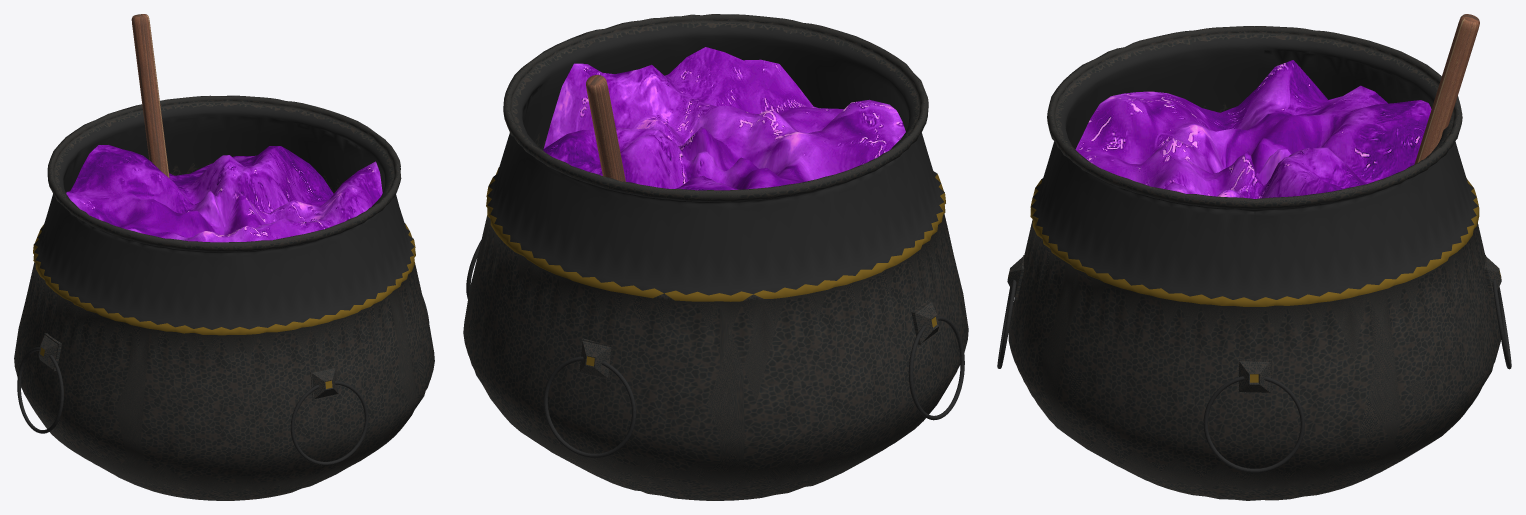
File: pot_end.fbx
The picture shows the model from 3 angles, left to right: view 1: azimuth 30°, elevation 25°; view 2: azimuth 150°, elevation 25°; view 3: azimuth 270°, elevation 25°; orthographic projection. The views are drawn at different scales.
Visible parts, largest first — view 1: Couldron, Circle, Handles, Cylinder; view 2: Couldron, Circle, Handles, Cylinder; view 3: Couldron, Circle, Handles, Cylinder.
Boxes of the visible parts, <box> form: Couldron: <box>14,95,434,500</box>; Circle: <box>66,145,382,242</box>; Handles: <box>17,295,429,465</box>; Cylinder: <box>131,14,169,177</box>; Couldron: <box>463,14,968,500</box>; Circle: <box>543,47,905,190</box>; Handles: <box>466,240,964,457</box>; Cylinder: <box>586,75,625,181</box>; Couldron: <box>1008,26,1500,500</box>; Circle: <box>1075,60,1431,198</box>; Handles: <box>997,255,1511,472</box>; Cylinder: <box>1414,14,1479,164</box>.
Size of the model in its own units: 244 by 233 by 243.
